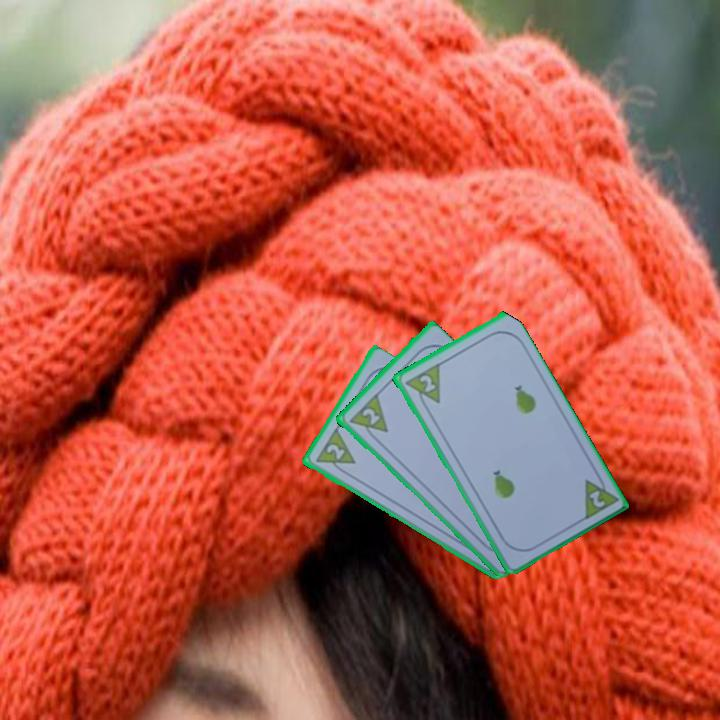2p: (311, 426, 358, 478), (345, 391, 390, 445), (400, 360, 443, 412), (585, 486, 608, 511)
